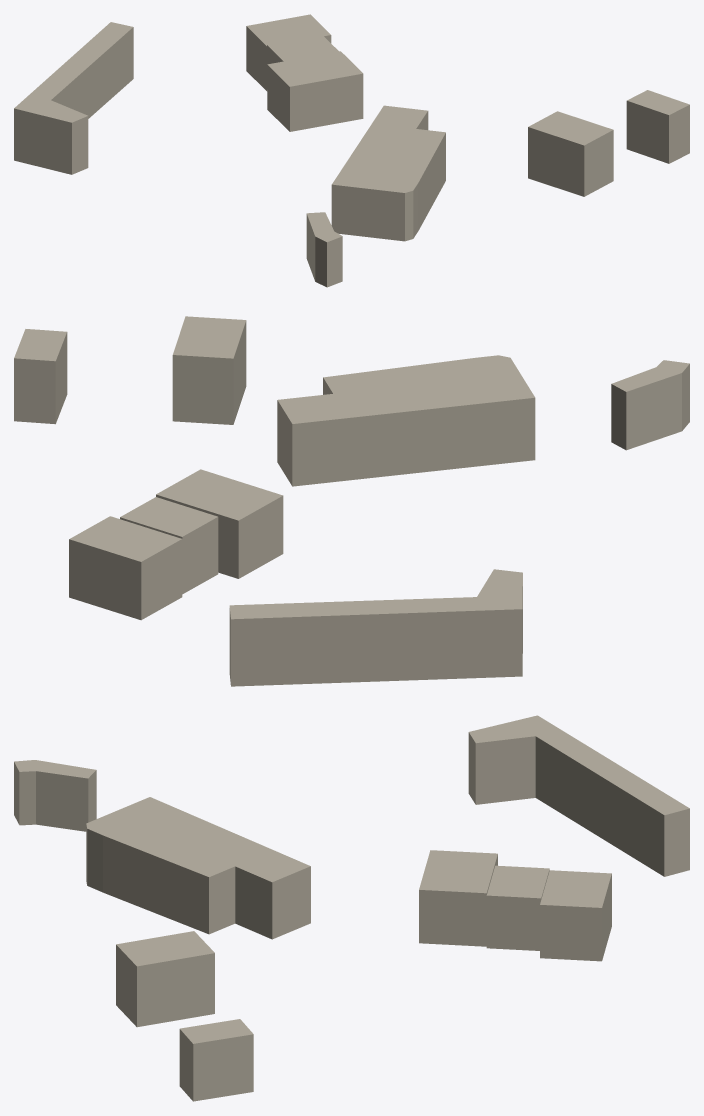
File: senglea_56_28_collision.glb
The picture shows the model from 3 angles, top to bottom: view 1: azimuth 30°, elevation 25°; view 2: azimuth 150°, elevation 25°; view 3: azimuth 270°, elevation 25°; orthographic projection. The views are drawn at different scales.
Visible parts, largest first — view 1: geometry_0; view 2: geometry_0; view 3: geometry_0.
Boxes of the visible parts, <box> form: geometry_0: <box>14,14,689,287</box>; geometry_0: <box>14,316,689,686</box>; geometry_0: <box>14,715,689,1101</box>.
Bounding box in the file's own units: 131 × 17.51 × 123.
